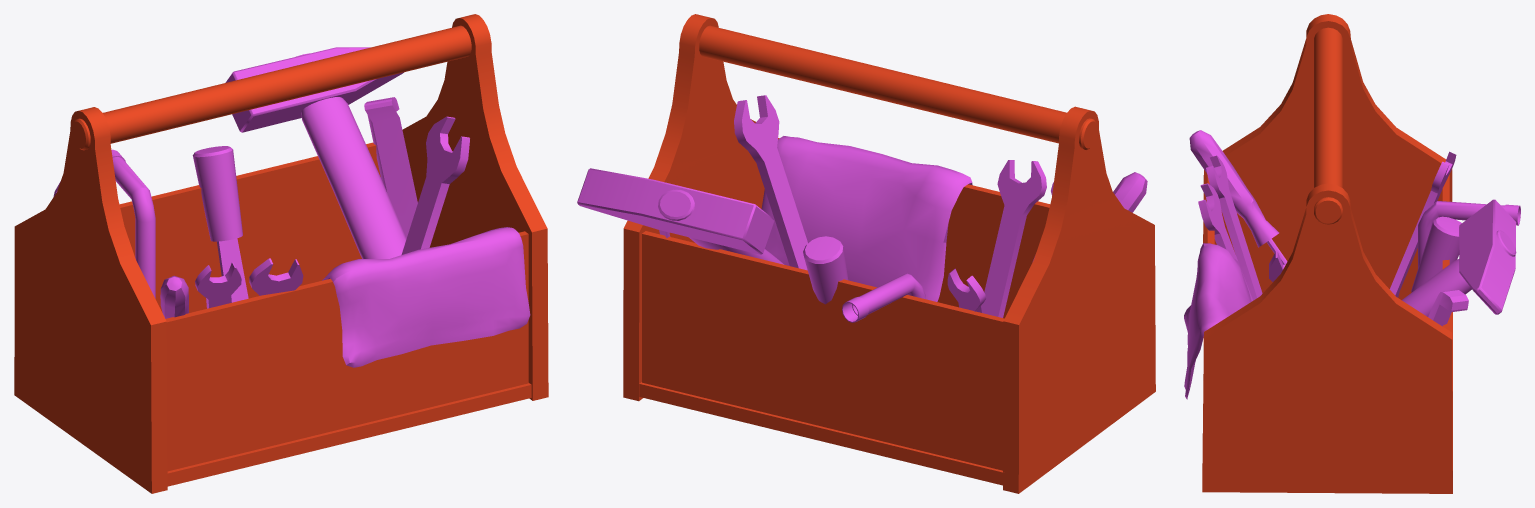
The model's file is inst.fbx.
3 views of the same model, side by side, from view 1: azimuth 30°, elevation 25°; view 2: azimuth 150°, elevation 25°; view 3: azimuth 270°, elevation 25° (orthographic). The views are drawn at different scales.
Visible parts, largest first — view 1: inst; view 2: inst; view 3: inst.
Part boxes in pixels (x1,y1,x2,y2): inst: [14, 14, 548, 493]; inst: [577, 14, 1155, 493]; inst: [1184, 14, 1520, 493].
Size of the model in its own units: 26.67 by 20.17 by 20.29.
